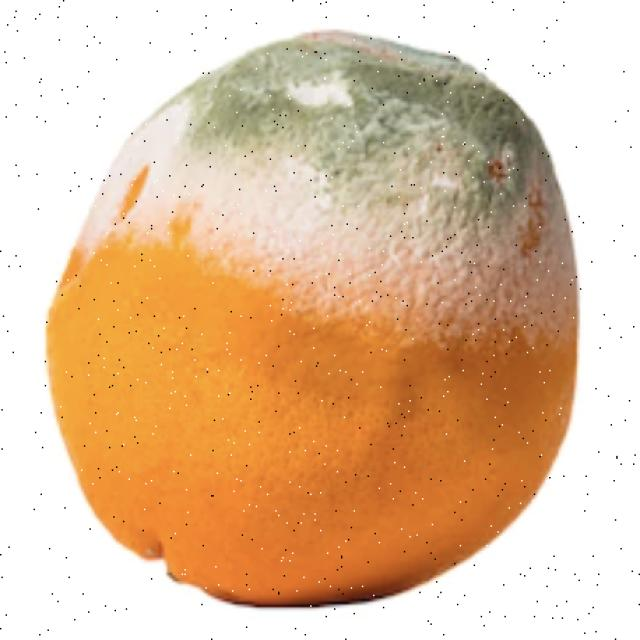Organik: (34, 17, 593, 627)
